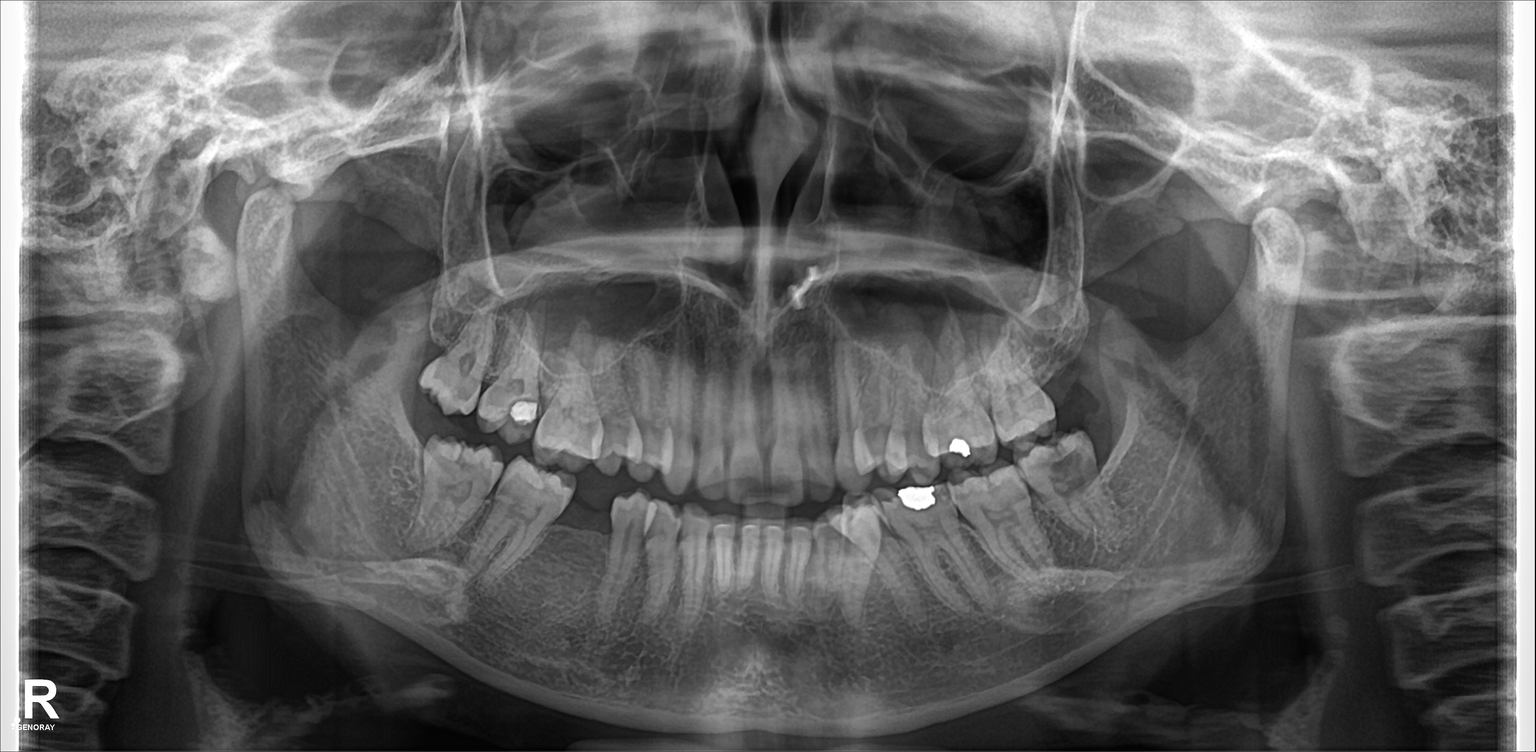Dental Caries: (1050, 463, 1088, 493)
Missing Tooth: (1045, 329, 1110, 405), (568, 477, 606, 585)
